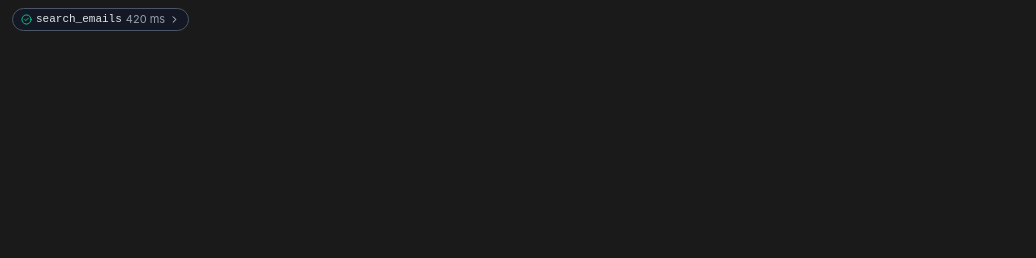
Test: ToolCallInspector › expands a chip inline with pretty-printed args and the result, and collapses it again
This screenshot has width=1036, height=258.
Click the button "search_emails 420 ms" at x=101, y=19, box x1=12 y1=8 x2=189 y2=30
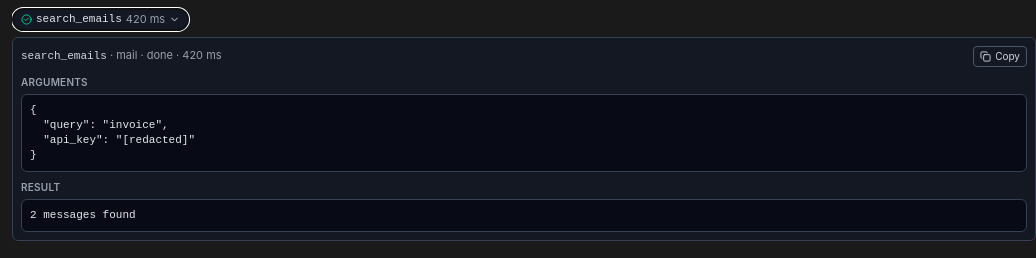
Check: the button "search_emails 420 ms" is expanded
Check: the text "2 messages found" is shown, box x1=21 y1=199 x2=1027 y2=232
Click the button "search_emails 420 ms" at x=101, y=19, box x1=12 y1=8 x2=189 y2=30
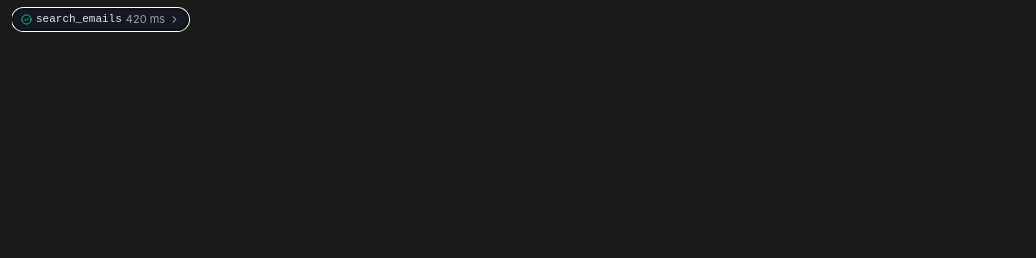
Check: the button "search_emails 420 ms" is collapsed, box x1=12 y1=8 x2=189 y2=30
